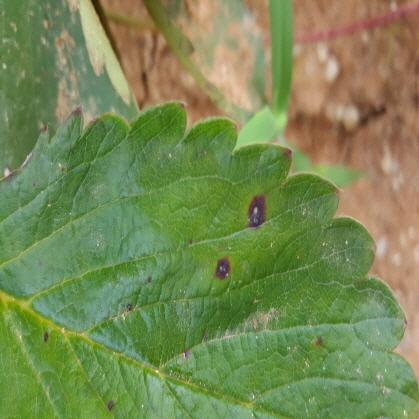Leaf Spot: (0, 101, 418, 418)
